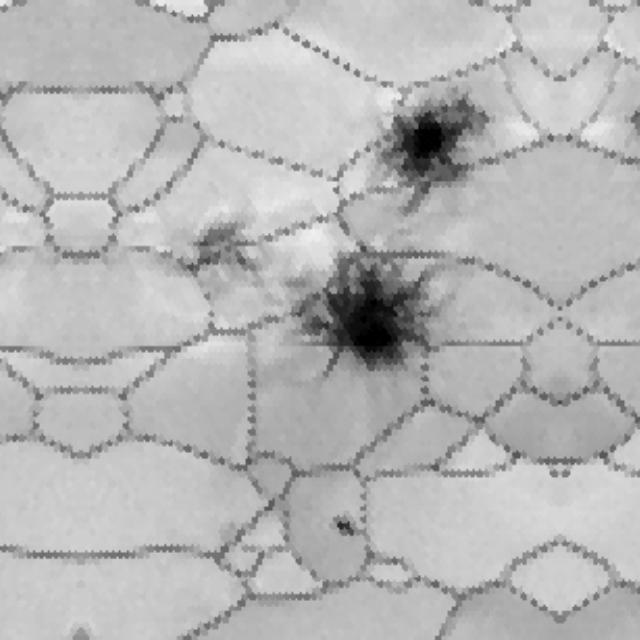good_void: (291, 240, 450, 383), (356, 87, 492, 221), (182, 211, 263, 287), (324, 510, 361, 544), (559, 465, 571, 482), (548, 465, 559, 482)
